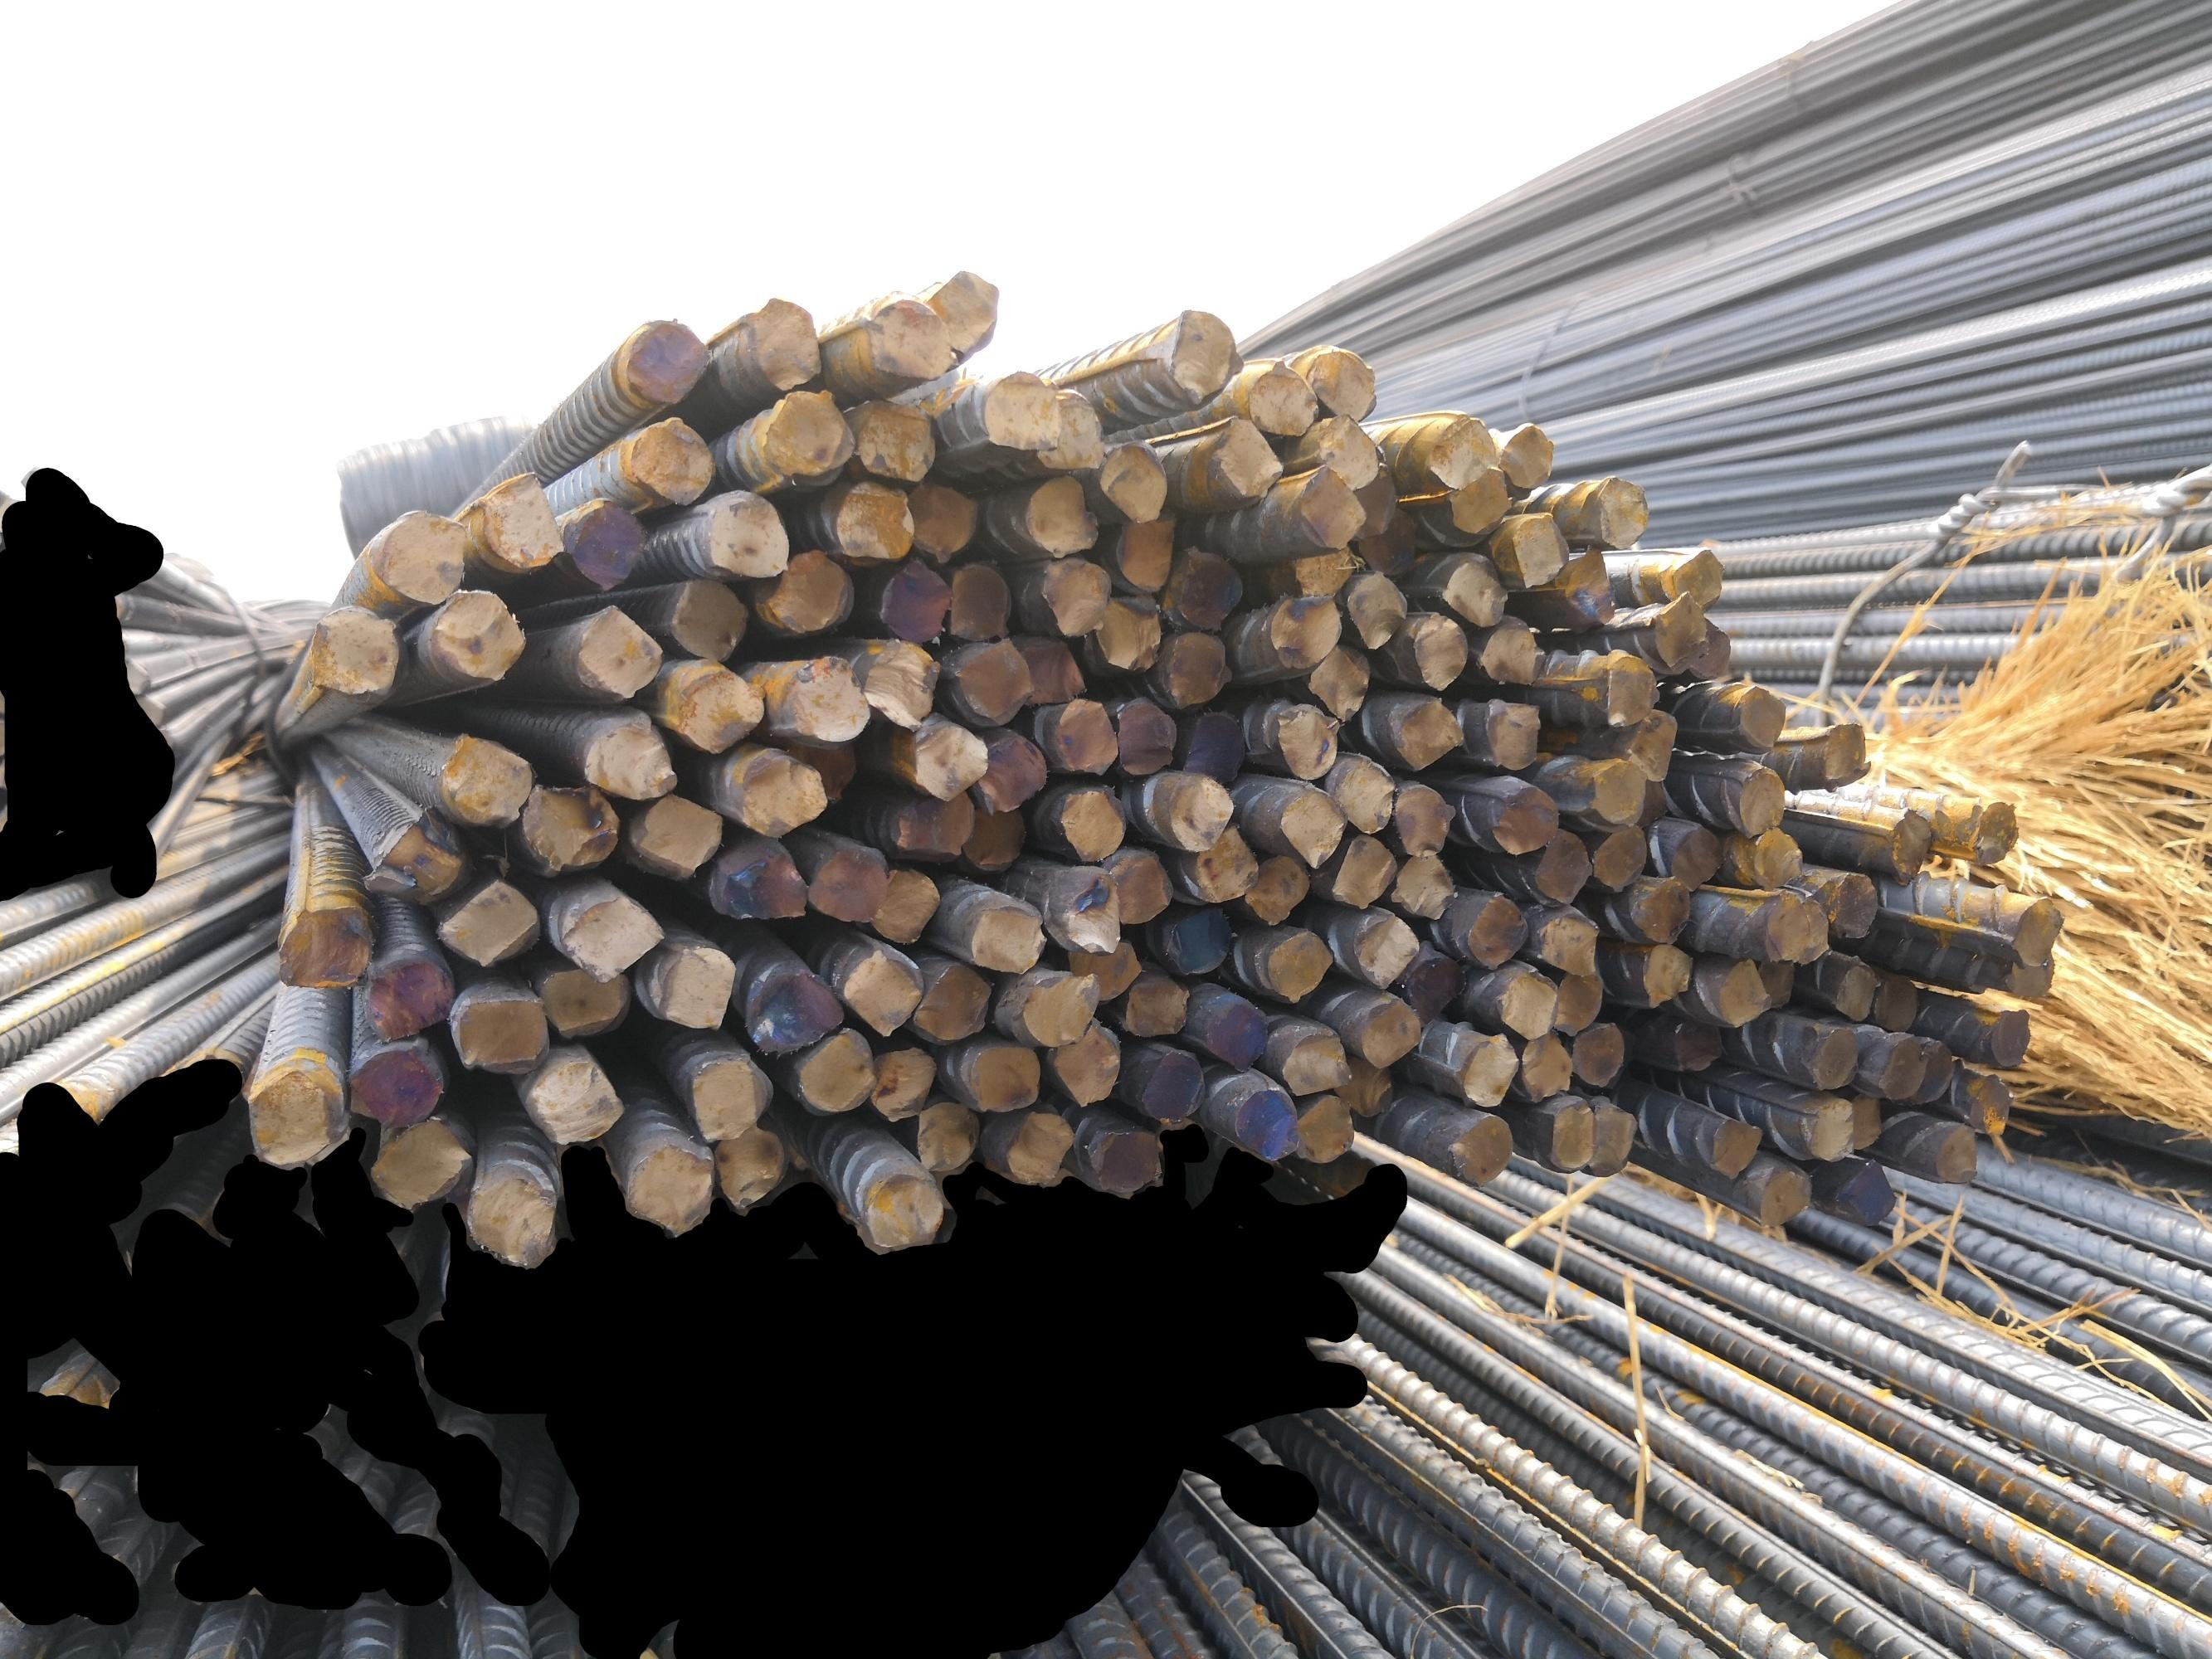bar: (654, 657, 765, 760), (350, 809, 471, 903), (514, 774, 622, 878), (424, 728, 535, 829), (750, 382, 858, 484), (425, 877, 546, 969), (244, 1061, 342, 1173), (551, 890, 666, 985), (420, 586, 530, 683), (357, 1117, 467, 1213), (458, 1173, 565, 1270), (737, 967, 847, 1061), (302, 599, 403, 701), (366, 509, 471, 606), (469, 467, 567, 570), (342, 1039, 448, 1133), (610, 317, 722, 406), (1157, 298, 1245, 411), (695, 484, 795, 584), (577, 709, 682, 803), (751, 545, 856, 640), (274, 899, 373, 997), (621, 410, 718, 509), (621, 1141, 716, 1243), (729, 749, 831, 843), (450, 983, 551, 1077), (560, 491, 648, 596), (858, 293, 953, 389), (568, 605, 662, 702), (854, 633, 945, 734), (704, 840, 812, 924), (851, 1164, 948, 1256), (525, 1056, 624, 1147), (359, 957, 453, 1051), (659, 570, 753, 664), (628, 789, 723, 882), (781, 650, 877, 742), (833, 943, 924, 1040), (849, 390, 941, 484), (945, 638, 1037, 732), (682, 1056, 777, 1147), (743, 291, 824, 394), (802, 838, 891, 932), (1299, 333, 1384, 430), (894, 469, 985, 559), (920, 260, 1004, 357), (1149, 619, 1236, 711), (1166, 535, 1245, 636), (898, 716, 988, 803), (1027, 549, 1114, 640), (1210, 403, 1285, 507), (1321, 737, 1398, 838), (652, 943, 739, 1032), (1044, 868, 1128, 960), (1021, 467, 1105, 559), (976, 366, 1062, 455), (830, 477, 915, 565), (1082, 1117, 1171, 1201), (967, 727, 1049, 817), (795, 1025, 875, 1117), (1288, 458, 1367, 552), (1011, 969, 1107, 1046), (861, 1040, 943, 1129), (540, 960, 634, 1037), (1267, 579, 1342, 674), (906, 957, 992, 1040), (1255, 925, 1340, 1009), (1382, 692, 1469, 774), (959, 896, 1048, 976), (1239, 350, 1318, 441), (1032, 382, 1107, 476), (1091, 580, 1164, 676), (1480, 777, 1565, 859), (1222, 1082, 1302, 1169), (711, 1127, 788, 1218), (873, 558, 955, 641), (889, 782, 973, 864), (1091, 437, 1166, 528), (1306, 411, 1388, 493), (1048, 1025, 1124, 1112), (1473, 685, 1548, 774), (943, 552, 1016, 643), (1276, 781, 1347, 873), (783, 728, 865, 809), (1384, 777, 1462, 861), (1344, 906, 1419, 993), (1457, 887, 1532, 974), (1645, 587, 1720, 674), (1304, 634, 1375, 725), (1161, 770, 1239, 852), (1442, 1108, 1520, 1190), (999, 1107, 1075, 1190), (1098, 845, 1175, 929), (1349, 988, 1424, 1073), (1055, 936, 1143, 1007), (906, 1098, 983, 1180), (1008, 631, 1089, 708), (1191, 992, 1267, 1073), (865, 863, 940, 946), (1271, 695, 1342, 782), (1157, 901, 1238, 978), (1189, 821, 1260, 906), (1501, 509, 1572, 594), (957, 795, 1034, 873), (962, 1037, 1041, 1114), (1276, 1023, 1353, 1101), (1323, 828, 1398, 908), (1055, 781, 1126, 864), (1049, 695, 1119, 781), (1135, 1044, 1203, 1131), (1530, 821, 1597, 910), (1238, 849, 1313, 927), (1384, 840, 1457, 920), (1586, 648, 1659, 728), (1335, 566, 1405, 650), (1109, 692, 1177, 777), (1408, 606, 1475, 694), (1550, 544, 1616, 631), (1290, 1089, 1360, 1171), (1112, 509, 1178, 594), (1426, 415, 1499, 491), (1454, 1030, 1525, 1108), (2006, 884, 2069, 972), (1178, 706, 1246, 788), (1536, 899, 1604, 981), (1480, 610, 1548, 692), (1435, 558, 1511, 629), (1705, 950, 1773, 1030), (1788, 1091, 1858, 1168), (1449, 455, 1513, 537), (1762, 890, 1830, 967), (1344, 457, 1403, 544), (1623, 877, 1696, 946), (1584, 817, 1652, 892), (1816, 864, 1881, 943), (1401, 950, 1464, 1030), (1590, 471, 1652, 551), (1630, 936, 1696, 1011), (1729, 680, 1792, 758), (1665, 817, 1727, 896), (1581, 760, 1651, 829), (1494, 965, 1562, 1037), (1564, 1019, 1632, 1091), (1680, 612, 1747, 685), (1511, 1030, 1576, 1105), (1750, 1161, 1818, 1230), (1701, 1112, 1768, 1183), (1541, 1091, 1598, 1173), (1881, 802, 1935, 889), (1733, 829, 1809, 890), (1117, 979, 1191, 1042), (1496, 416, 1558, 490), (1834, 1155, 1896, 1229), (1281, 540, 1356, 601), (1731, 762, 1788, 840), (1802, 1021, 1860, 1098), (1661, 1009, 1727, 1075), (1583, 1101, 1639, 1180), (1809, 718, 1872, 788), (1666, 544, 1727, 615), (1337, 1047, 1396, 1121), (1926, 1117, 1985, 1190), (1621, 706, 1679, 781), (1968, 793, 2022, 871), (1361, 509, 1421, 580), (1551, 962, 1607, 1035), (1984, 995, 2032, 1079), (1877, 1026, 1926, 1107), (1964, 1068, 2015, 1141), (1867, 958, 1917, 1032), (2001, 941, 2062, 999), (1835, 1086, 1884, 1155), (1917, 1028, 1956, 1115), (1623, 767, 1677, 828), (1752, 950, 1799, 1018), (1829, 958, 1876, 1025)
